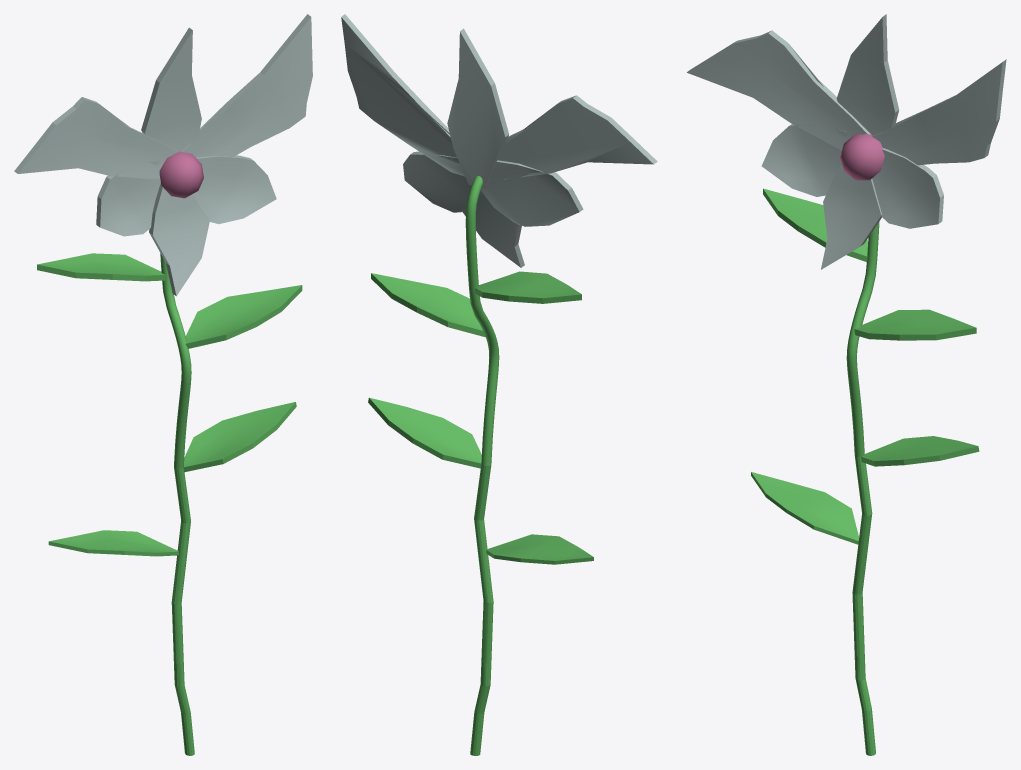
File: DragonFlower_AD.fbx
The picture shows the model from 3 angles, left to right: view 1: azimuth 30°, elevation 25°; view 2: azimuth 150°, elevation 25°; view 3: azimuth 330°, elevation 25°; orthographic projection. The views are drawn at different scales.
Parts seen in each view (by area): view 1: DragonFlower_AD; view 2: DragonFlower_AD; view 3: DragonFlower_AD.
Part boxes in pixels (x1=…): DragonFlower_AD: x1=14, y1=14, x2=312, y2=755; DragonFlower_AD: x1=341, y1=14, x2=657, y2=755; DragonFlower_AD: x1=687, y1=14, x2=1006, y2=755.
Bounding box in the file's own units: 33.29 × 75.92 × 9.9.
